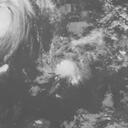cyclone: (48, 44, 85, 83)
